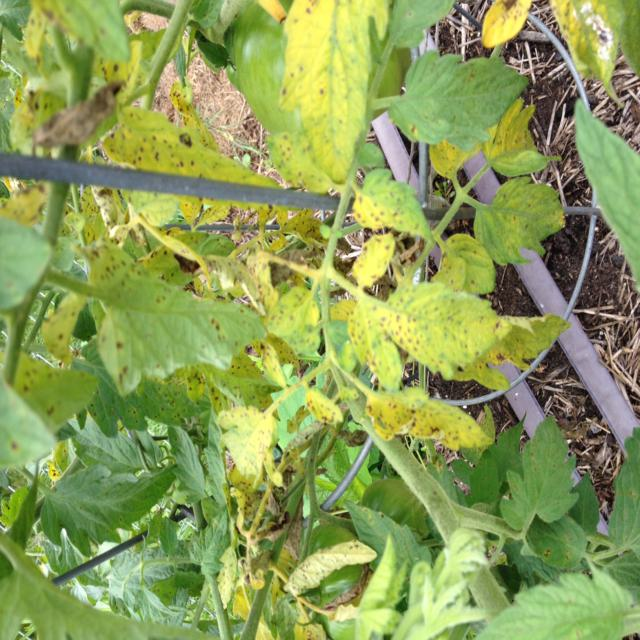Leaf_Mold: (346, 283, 566, 391), (269, 1, 390, 189), (121, 207, 328, 295), (103, 105, 274, 206), (465, 181, 568, 267), (360, 386, 492, 452), (7, 1, 72, 135), (546, 2, 622, 107), (209, 404, 286, 489), (344, 169, 431, 240), (483, 97, 560, 177), (282, 536, 379, 591), (219, 557, 275, 640), (427, 233, 497, 295), (41, 298, 79, 368), (347, 235, 395, 289), (94, 40, 141, 95), (425, 133, 481, 177), (480, 1, 530, 48), (252, 336, 298, 383), (270, 287, 313, 334), (304, 382, 345, 428), (2, 185, 47, 225), (291, 603, 329, 640), (168, 82, 191, 108)
